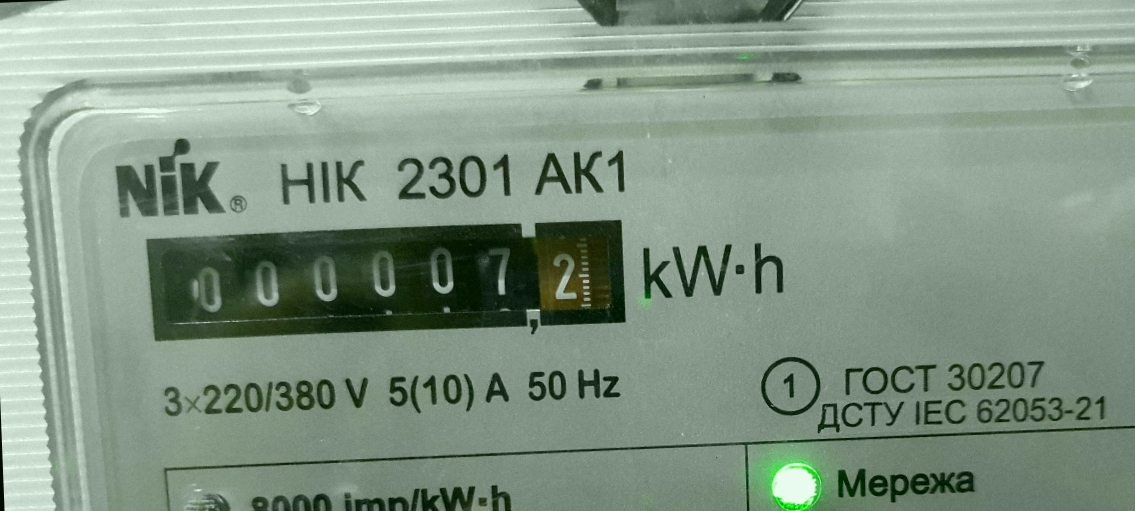0: (248, 255, 285, 308), (424, 243, 458, 297), (308, 250, 341, 304), (366, 245, 399, 299), (192, 262, 226, 314)
2: (548, 250, 580, 302)
7: (483, 242, 514, 298)
screen: (127, 199, 646, 361)
